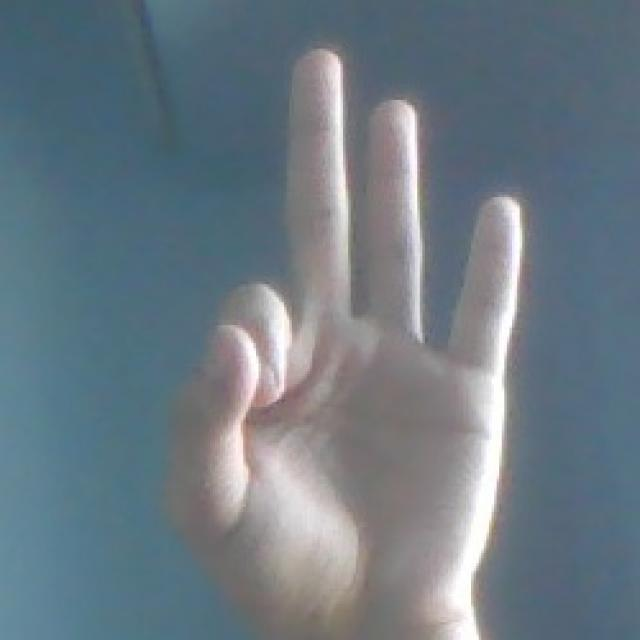Numeric-9: (152, 32, 514, 630)
